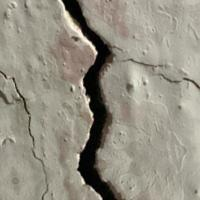crack: (34, 0, 147, 199)
